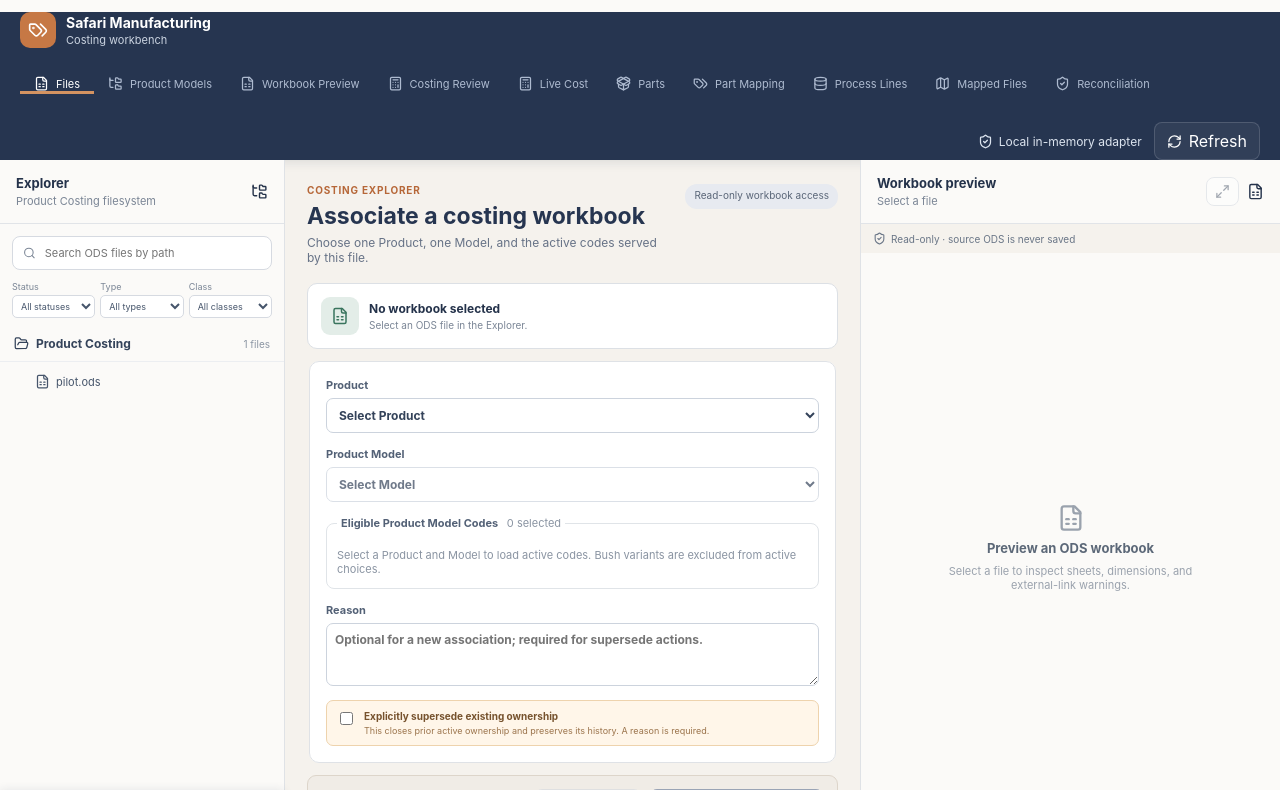
Test: Costing Explorer association workbench › searches nested ODS paths and renders their folder ancestry
The image size is (1280, 790).
Type "deep-only" into the field named "Search ODS costing files" at (152, 253), box [43, 245, 261, 261]
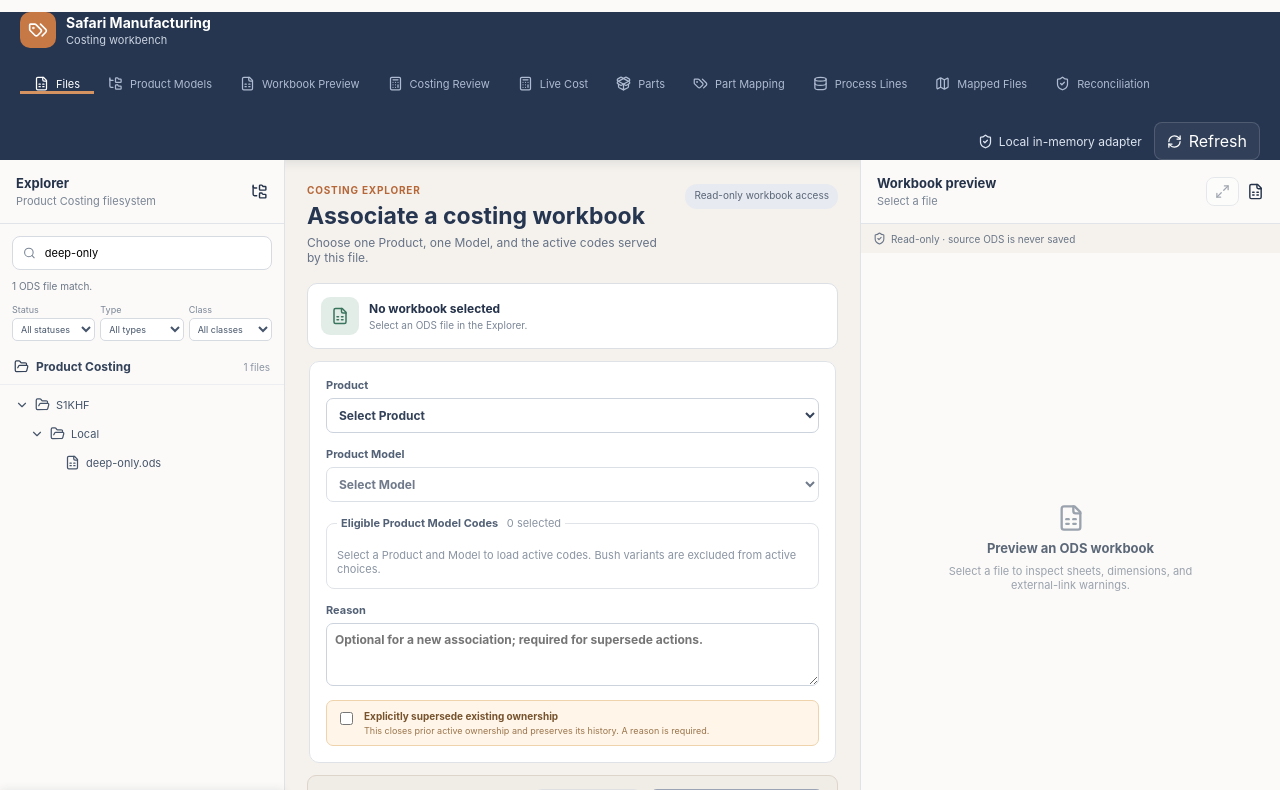
Expected: the button "deep-only.ods" is shown, [5, 448, 279, 477]
Expected: the button "S1KHF" is shown, [5, 390, 279, 419]
Expected: the button "Local" is shown, [5, 419, 279, 448]
